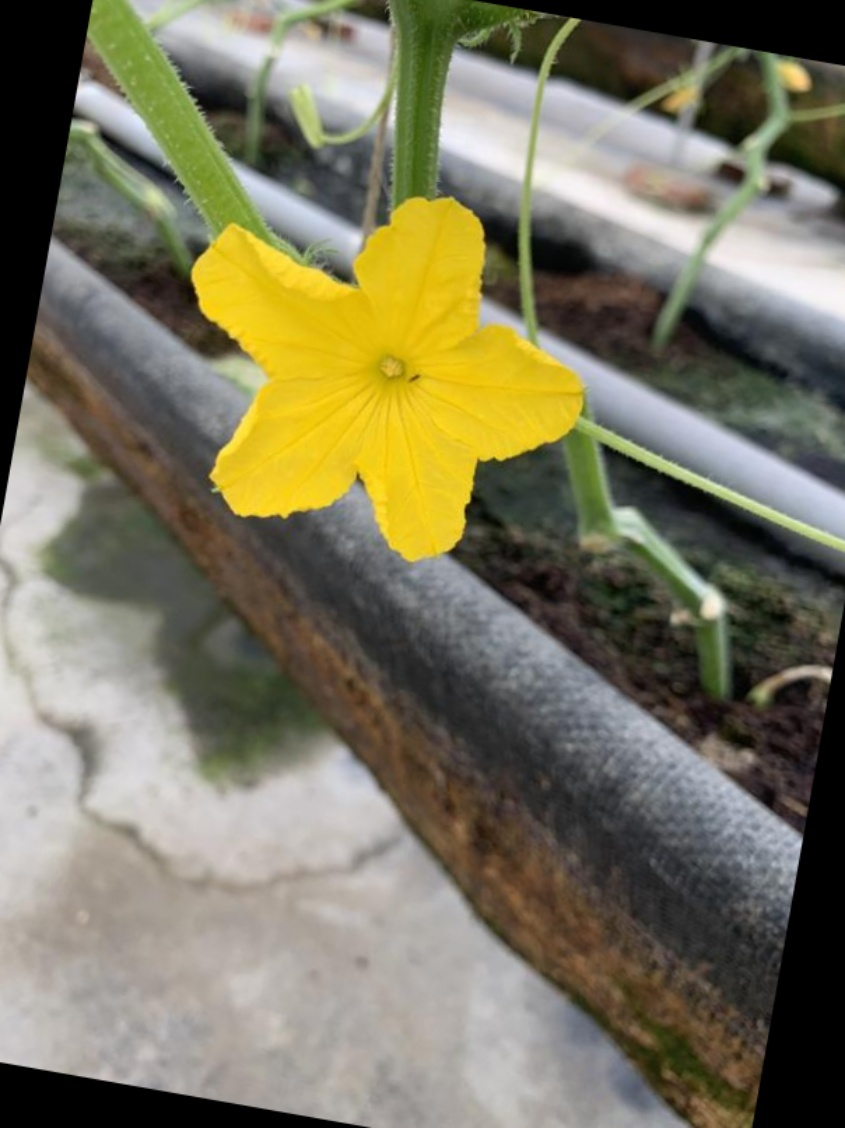mature: (182, 168, 592, 566)
